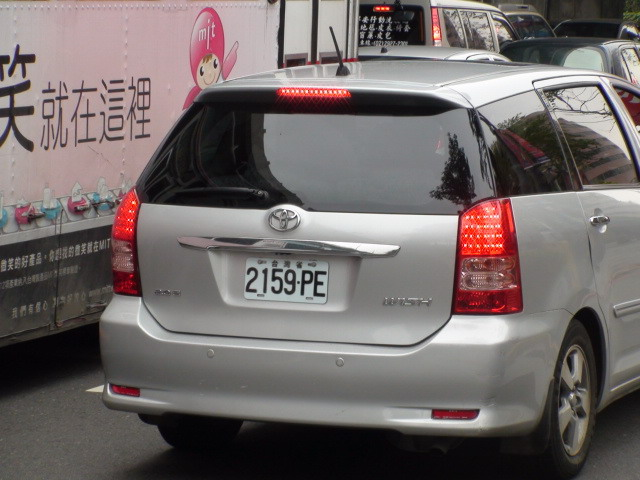plate: (240, 253, 331, 305)
